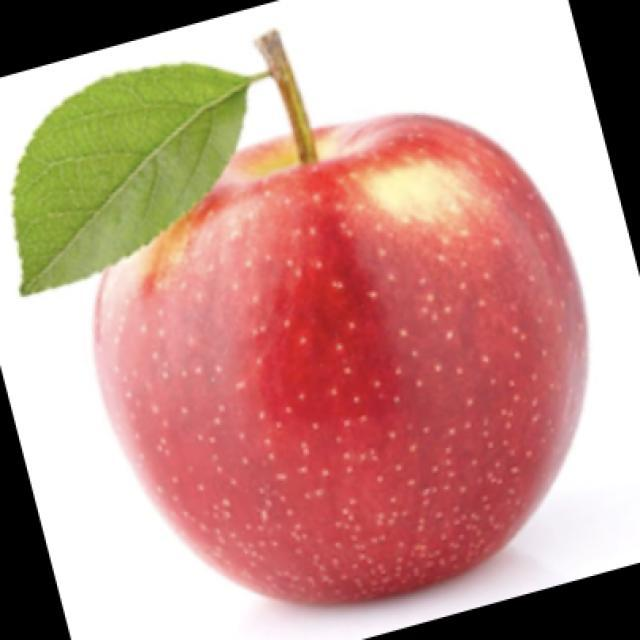Fresh Apple: (64, 93, 574, 605)
